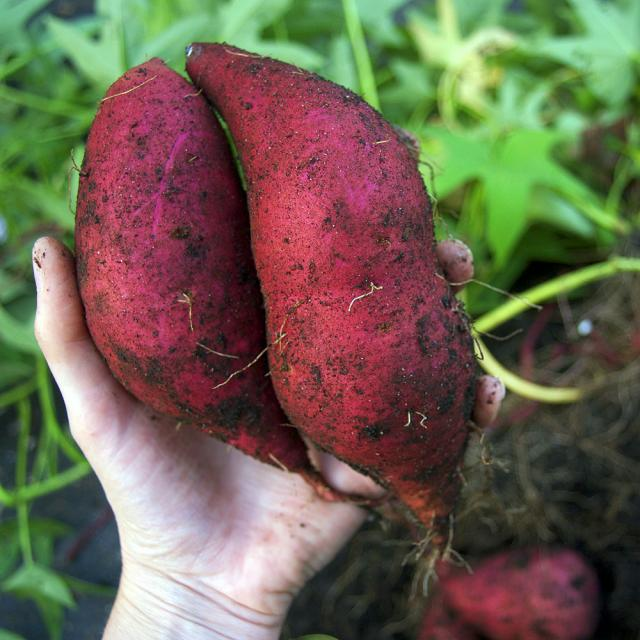Sweet Potato: (251, 138, 464, 550), (78, 58, 232, 409)
